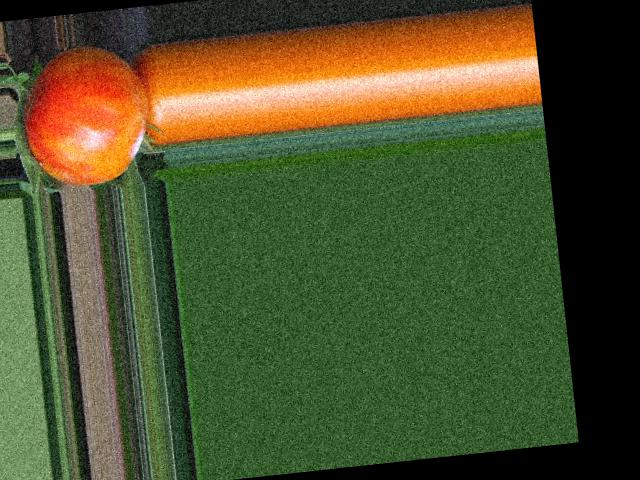tomato: (18, 40, 154, 190)
